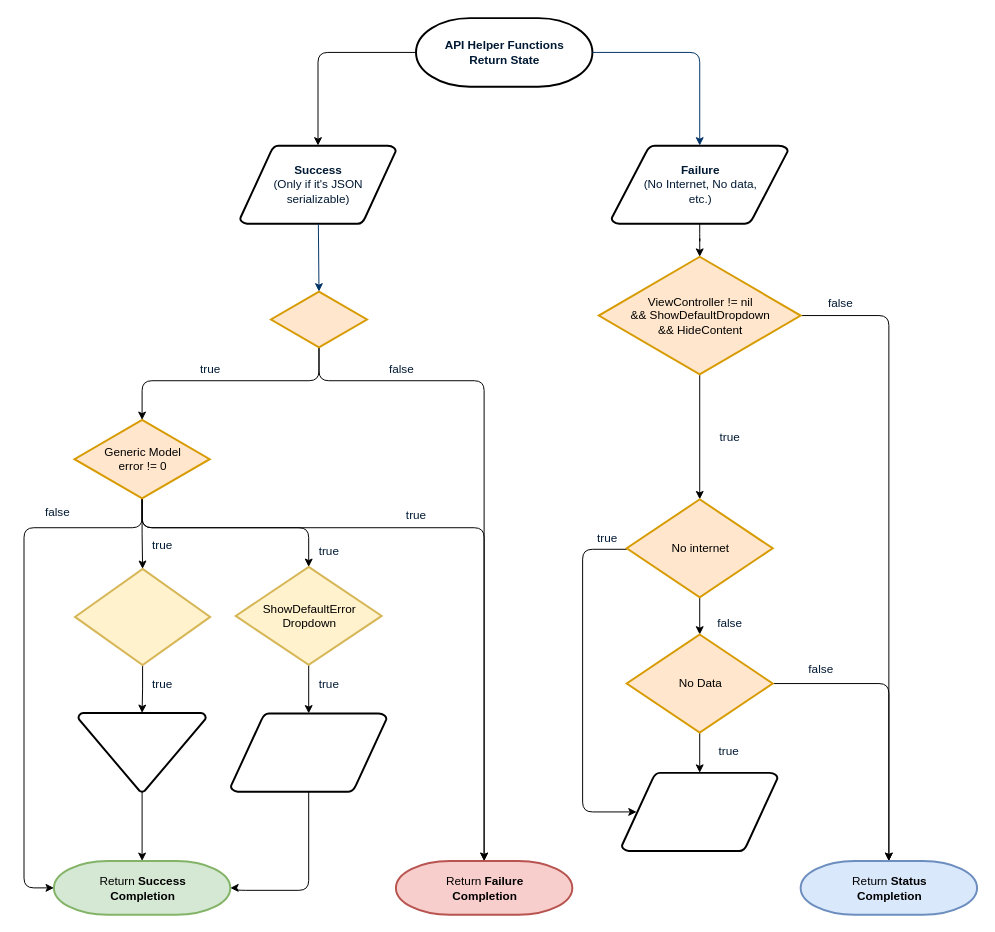
This 995x932 diagram has some shape labels left out. The centre of each missing label's shape, as x and y in pixels:
"data != nil" goes at point 319,319.
"error == 100" goes at point 142,616.
"Generic dropdown" goes at point 308,752.
"Logout ." goes at point 141,751.
"Show Empty State" goes at point 699,811.
